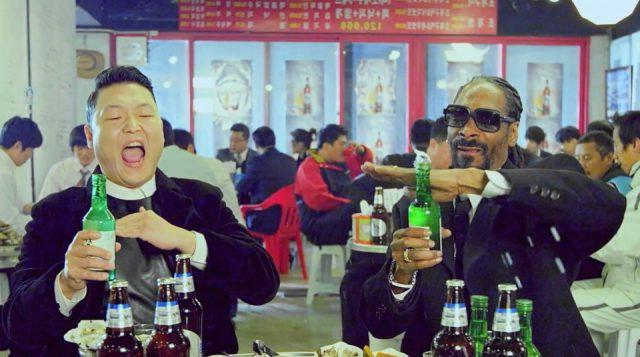Drunk: (95, 89, 161, 185), (450, 84, 507, 168)
